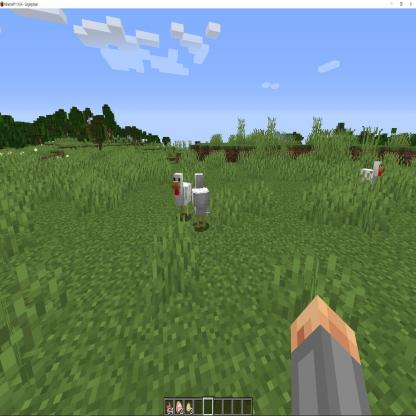minecraft-pigs: (357, 156, 385, 200), (172, 171, 191, 220), (194, 172, 210, 228)
